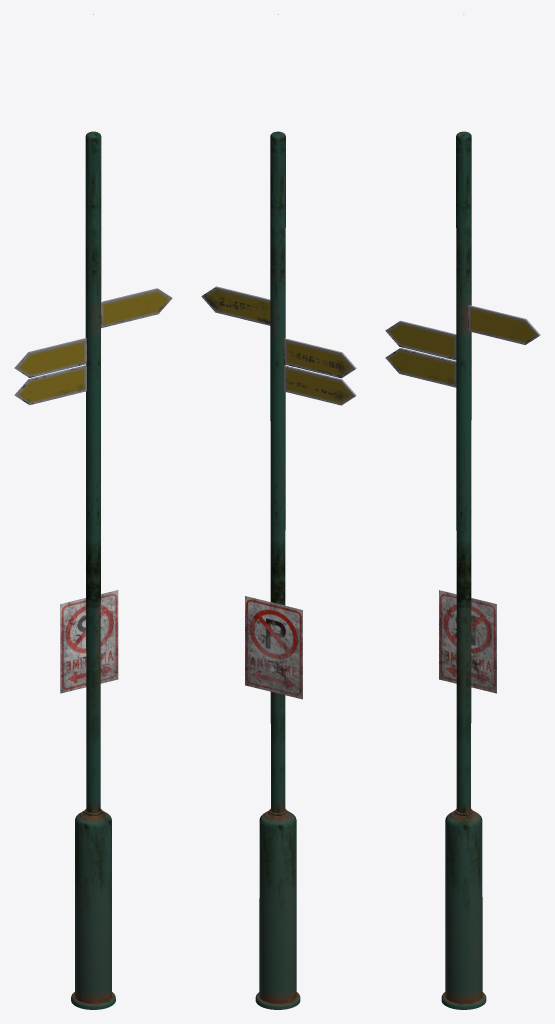
The model's file is sign_pole.glb.
The picture shows the model from 3 angles, left to right: view 1: azimuth 30°, elevation 25°; view 2: azimuth 150°, elevation 25°; view 3: azimuth 330°, elevation 25°; orthographic projection.
Visible parts, largest first — view 1: chains.100, Plane.001, Plane.002, Plane.003, Plane.005; view 2: chains.100, Plane.001, Plane.003, Plane.002, Plane.005; view 3: chains.100, Plane.001, Plane.005, Plane.003, Plane.002.
Part boxes in pixels (x1=…): chains.100: x1=71, y1=14, x2=115, y2=1009; Plane.001: x1=60, y1=590, x2=118, y2=693; Plane.002: x1=14, y1=338, x2=86, y2=377; Plane.003: x1=14, y1=365, x2=86, y2=405; Plane.005: x1=101, y1=288, x2=172, y2=328; chains.100: x1=255, y1=14, x2=300, y2=1009; Plane.001: x1=245, y1=596, x2=302, y2=699; Plane.003: x1=284, y1=365, x2=356, y2=405; Plane.002: x1=284, y1=338, x2=356, y2=378; Plane.005: x1=201, y1=286, x2=270, y2=325; chains.100: x1=441, y1=14, x2=486, y2=1009; Plane.001: x1=439, y1=590, x2=496, y2=693; Plane.005: x1=468, y1=305, x2=540, y2=344; Plane.003: x1=385, y1=348, x2=456, y2=387; Plane.002: x1=385, y1=320, x2=456, y2=360.
Size of the model in its own units: 140 by 849 by 35.
Materials: 3 (3 with a texture image).
